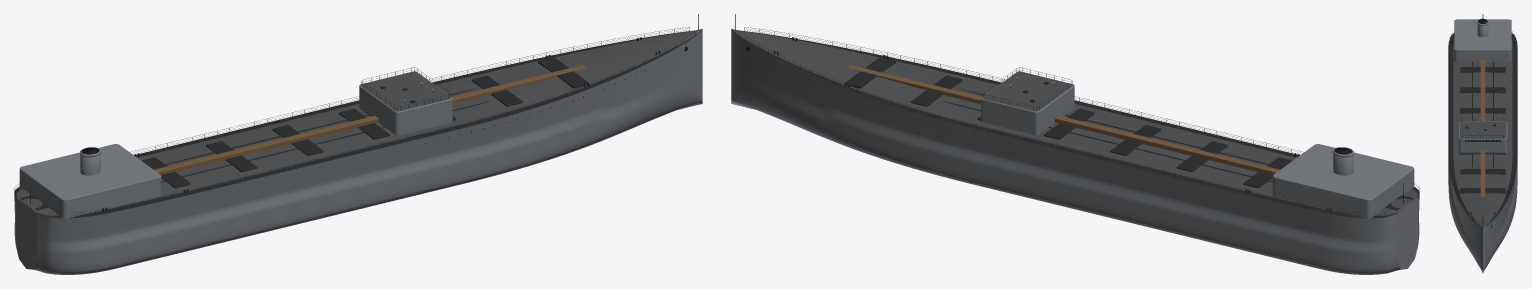
File: petrolero.glb
The picture shows the model from 3 angles, left to right: view 1: azimuth 30°, elevation 25°; view 2: azimuth 150°, elevation 25°; view 3: azimuth 270°, elevation 25°; orthographic projection. The views are drawn at different scales.
Visible parts, largest first — view 1: petrolero; view 2: petrolero; view 3: petrolero.
Part boxes in pixels (x1=…): petrolero: x1=14, y1=14, x2=702, y2=274; petrolero: x1=731, y1=14, x2=1419, y2=274; petrolero: x1=1448, y1=14, x2=1517, y2=273.
Bounding box in the file's own units: 163 × 23.56 × 22.8.
